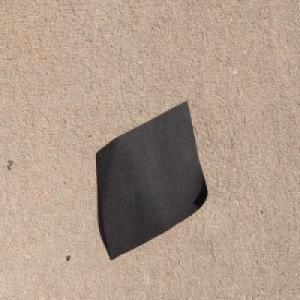PaintChip: (95, 98, 208, 262)
